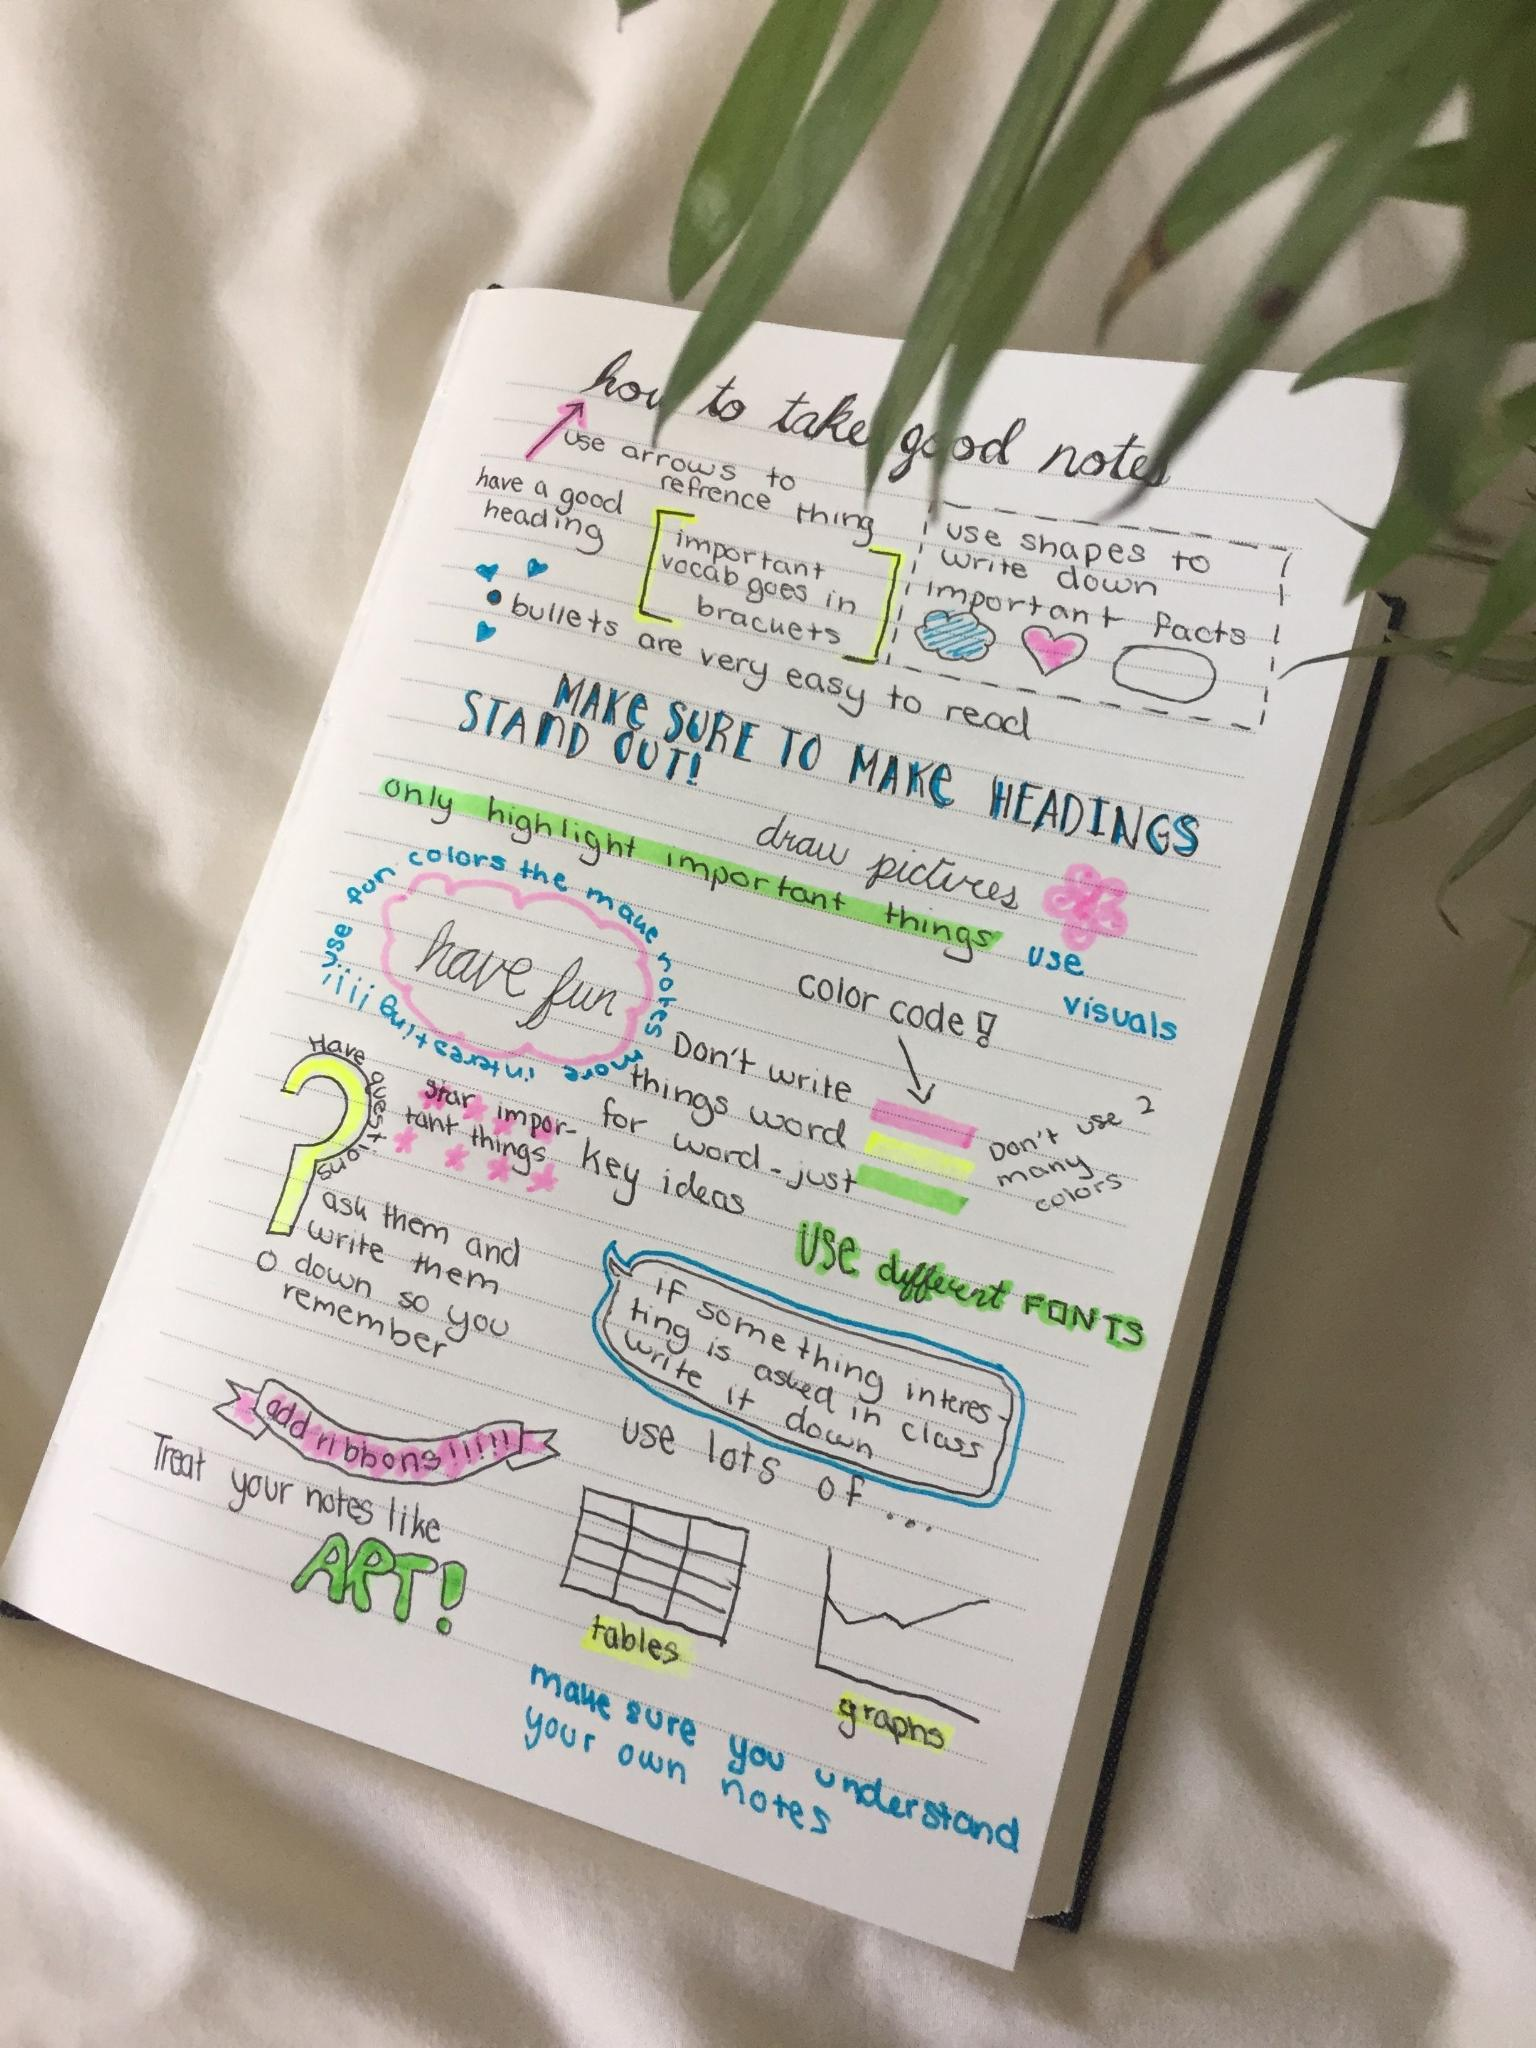paper: (5, 226, 1397, 1963)
